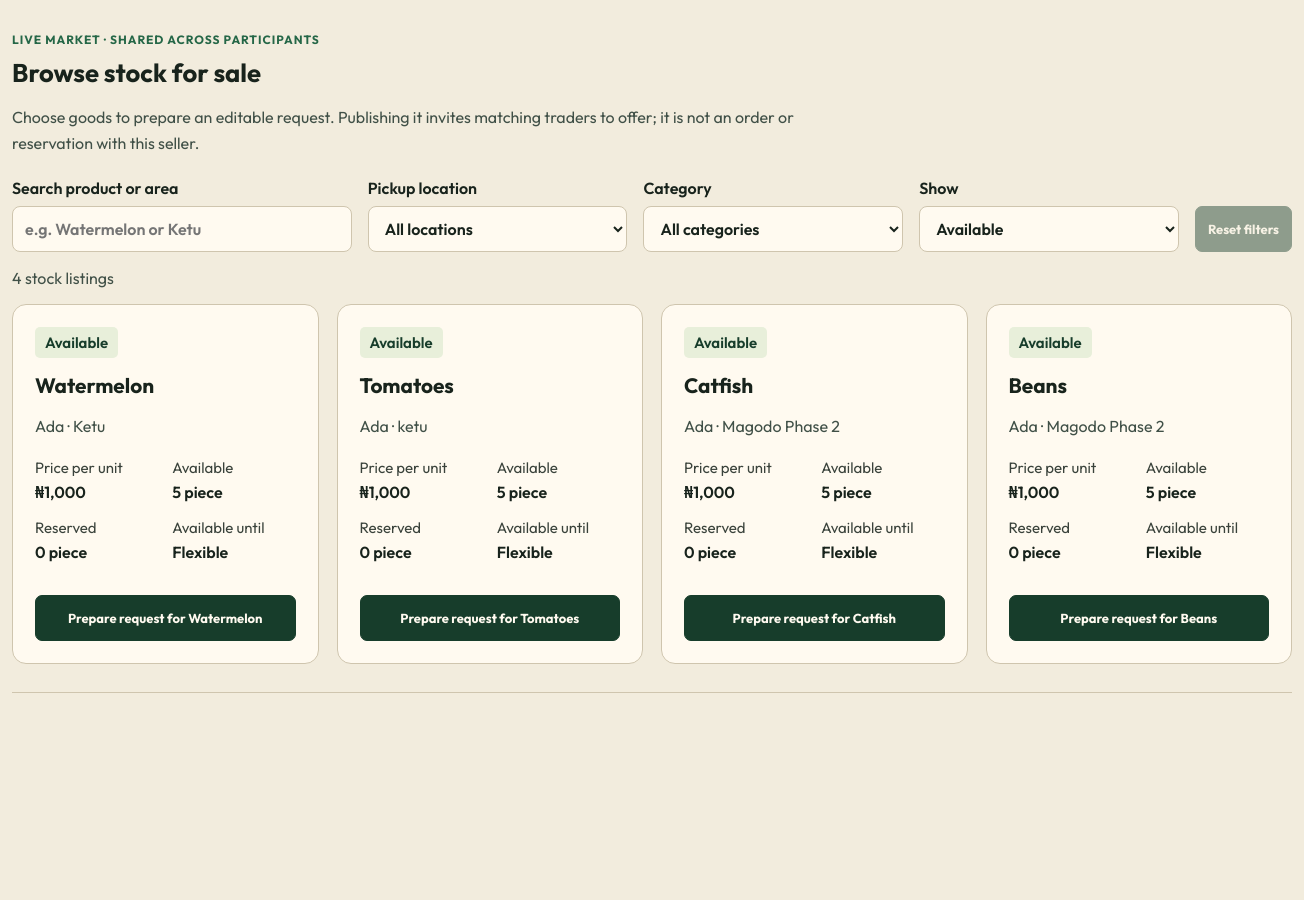
Test: filters actual stock locations and categories together with search, and resets without writes
Step 1. Select "Ketu" in the dropdown labelled "Pickup location" → coordinates (498, 229), box [368,206,627,252]
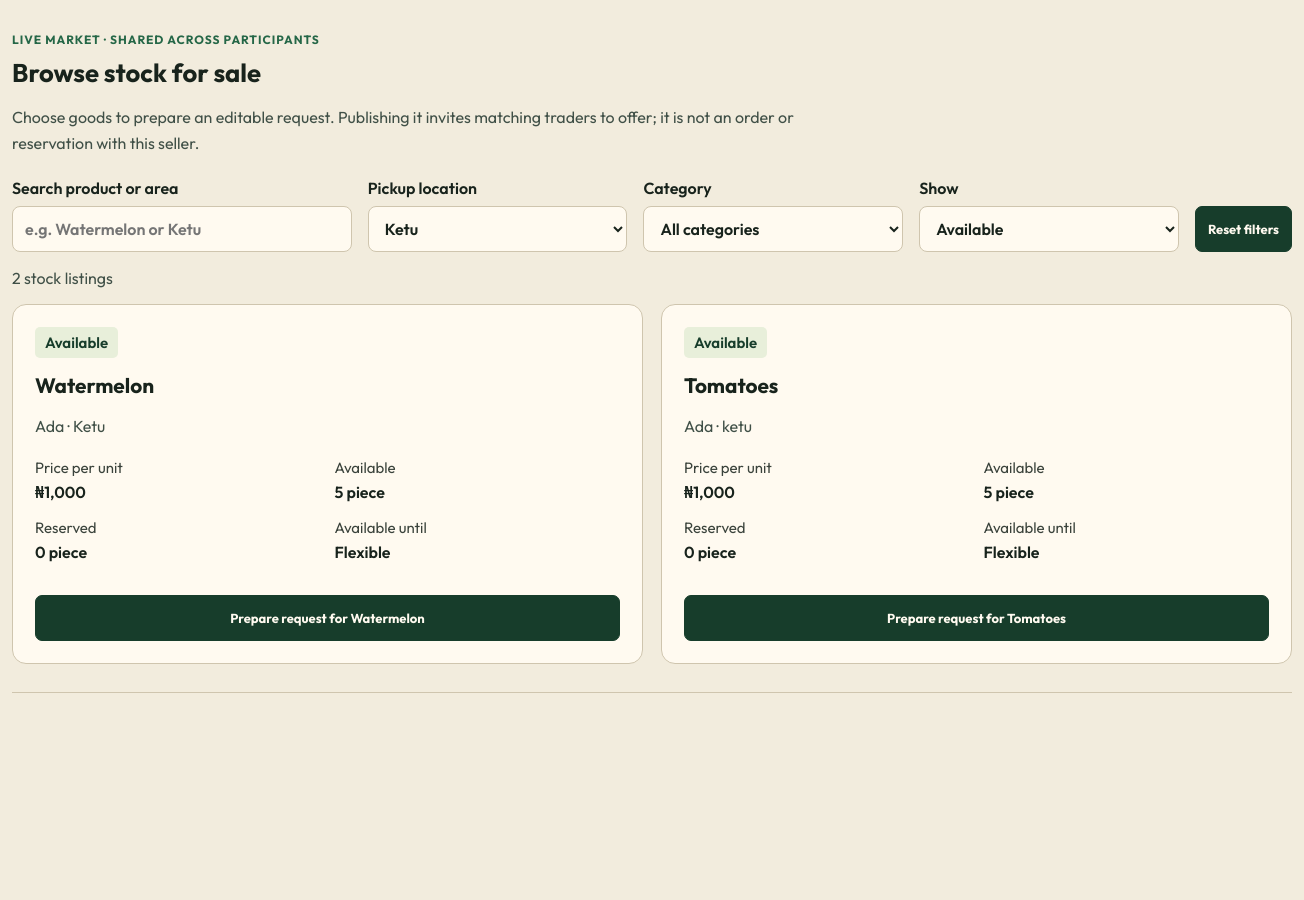
Step 2. Select "Produce" in the dropdown labelled "Category" → coordinates (773, 229), box [643,206,903,252]
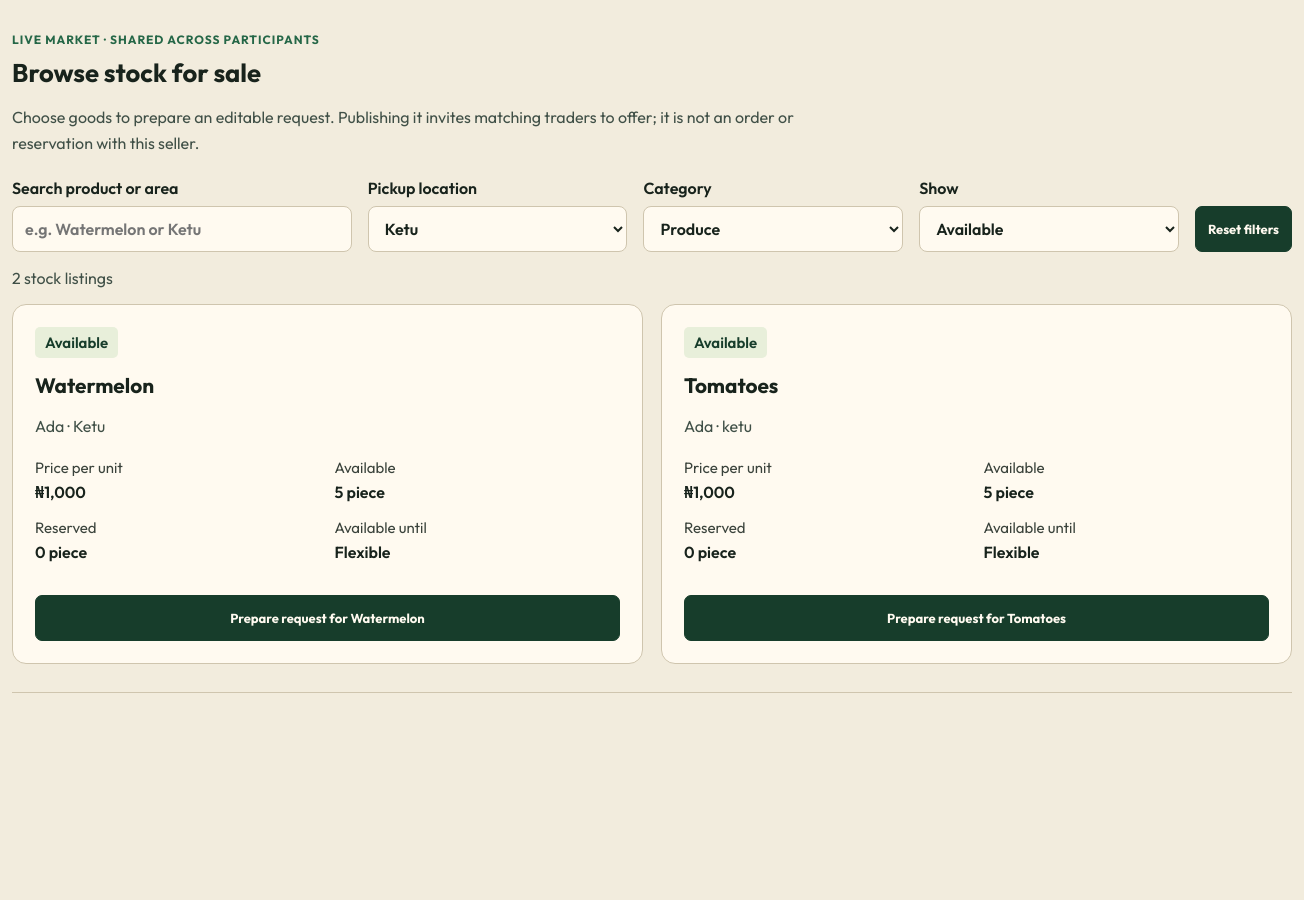
expect the message reads "2 stock listings": met, box [12,268,113,288]
Step 3. Type " tomatoes " into the search field labelled "Search product or area" → coordinates (182, 229), box [12,206,352,252]
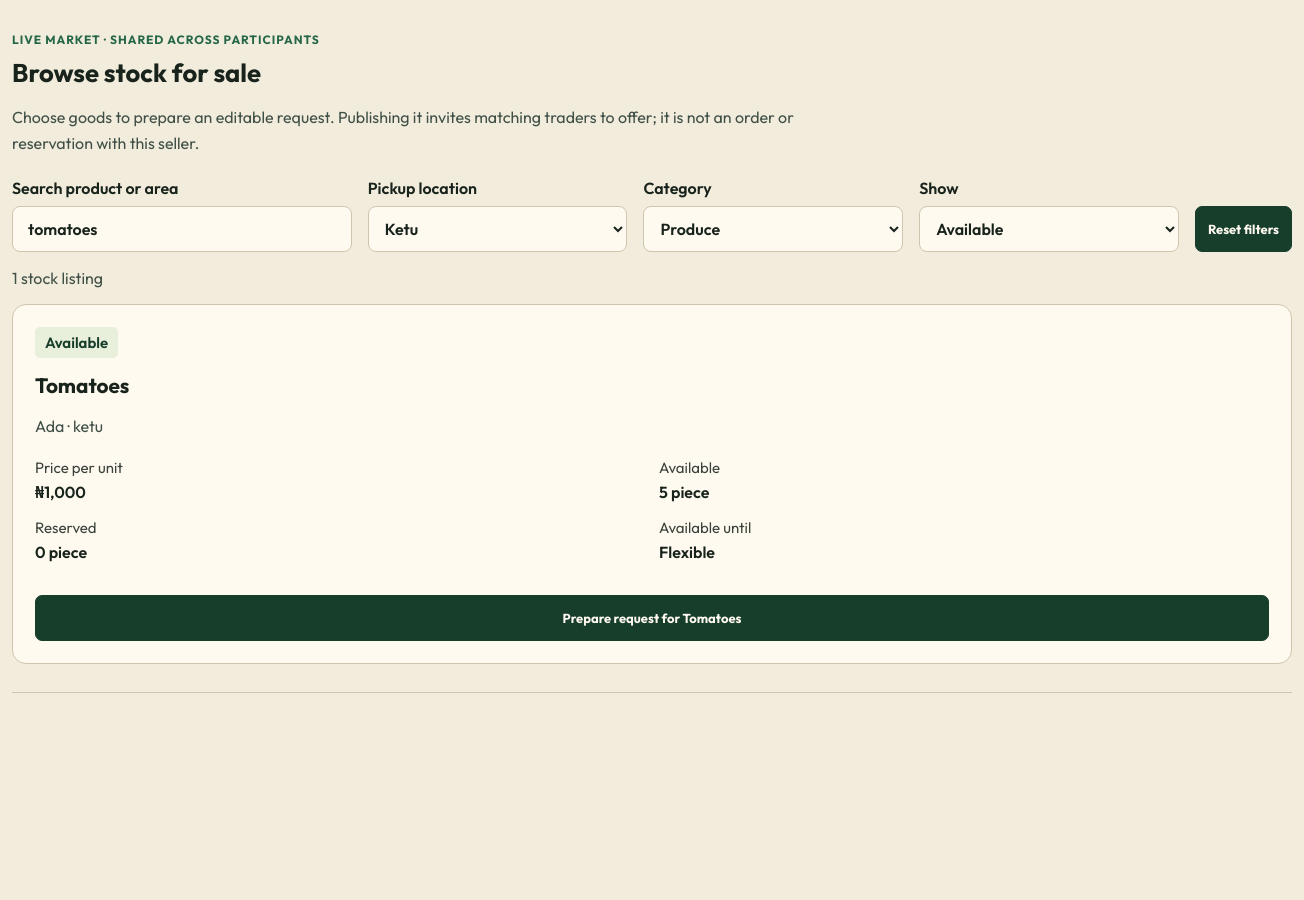
expect the message reads "1 stock listing": met, box [12,268,103,288]
Step 4. Select "Fish" in the dropdown labelled "Category" → coordinates (773, 229), box [643,206,903,252]
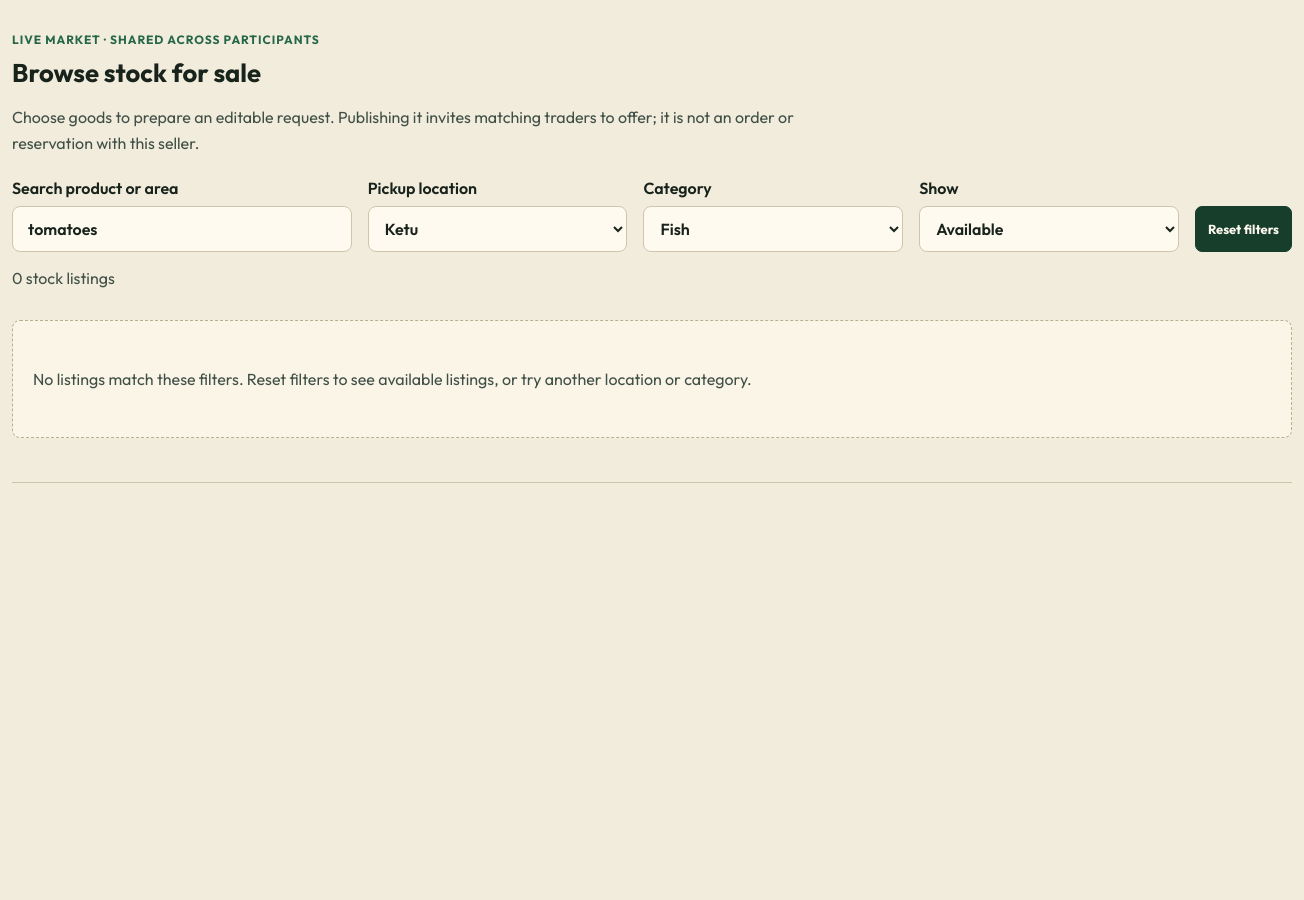
expect the text "No listings match these filters" is shown: met, box [33,369,752,389]
Step 5. Click the button "Reset filters" → coordinates (1243, 229), box [1195,206,1292,252]
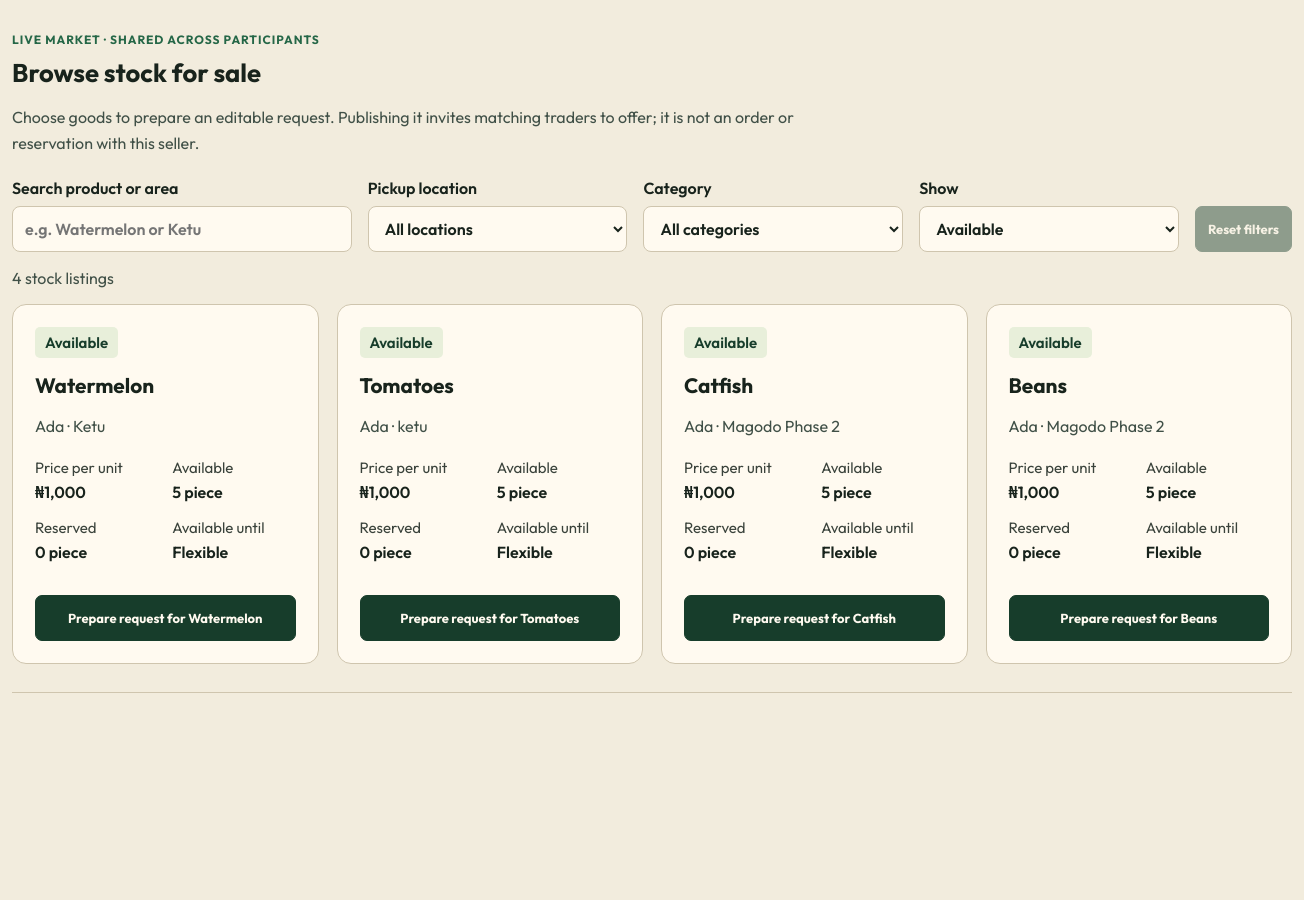
expect the message reads "4 stock listings": met, box [12,268,114,288]
